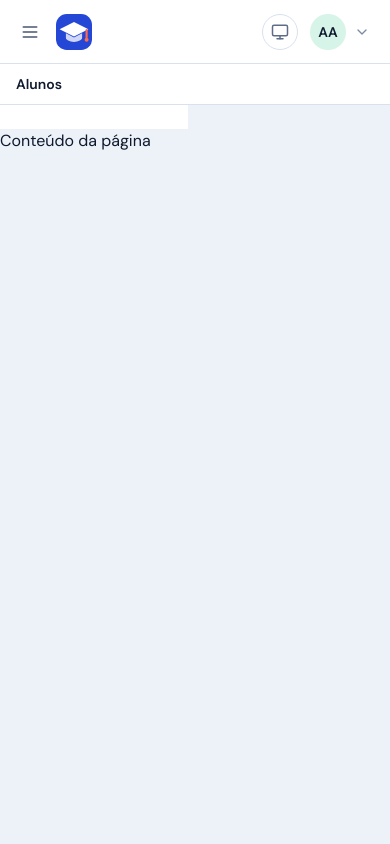
it: AppShell on a small screen › hides the sidebar and opens the navigation as a drawer
This screenshot has width=390, height=844.
Click the button named "Abrir menu" at (30, 32), box x1=12 y1=14 x2=48 y2=50
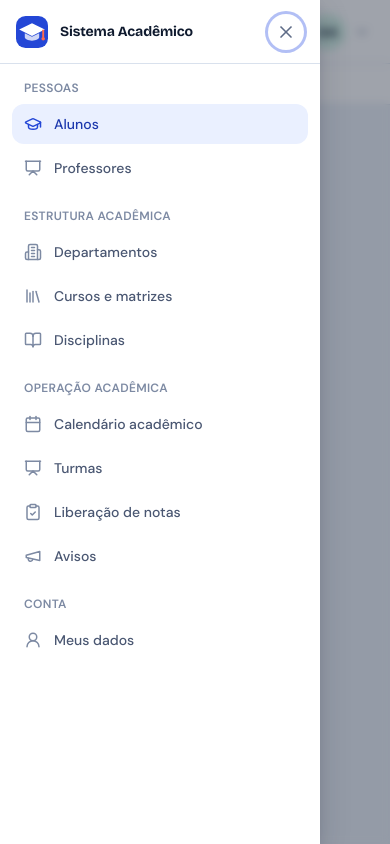
Check: the link "Alunos" is shown, box x1=12 y1=104 x2=308 y2=144
Press Escape
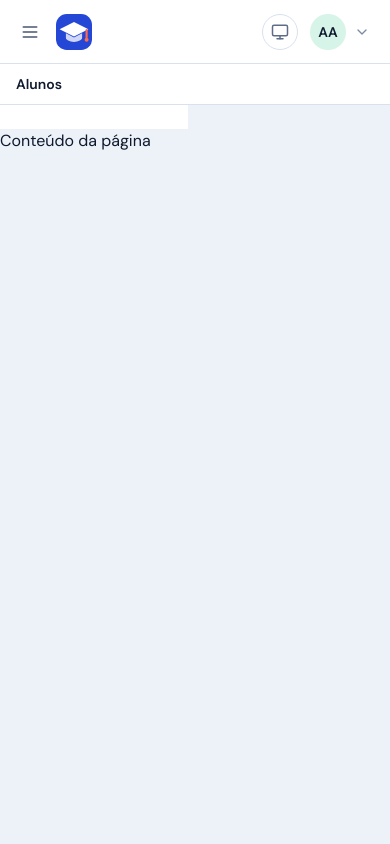
Check: the dialog is gone
